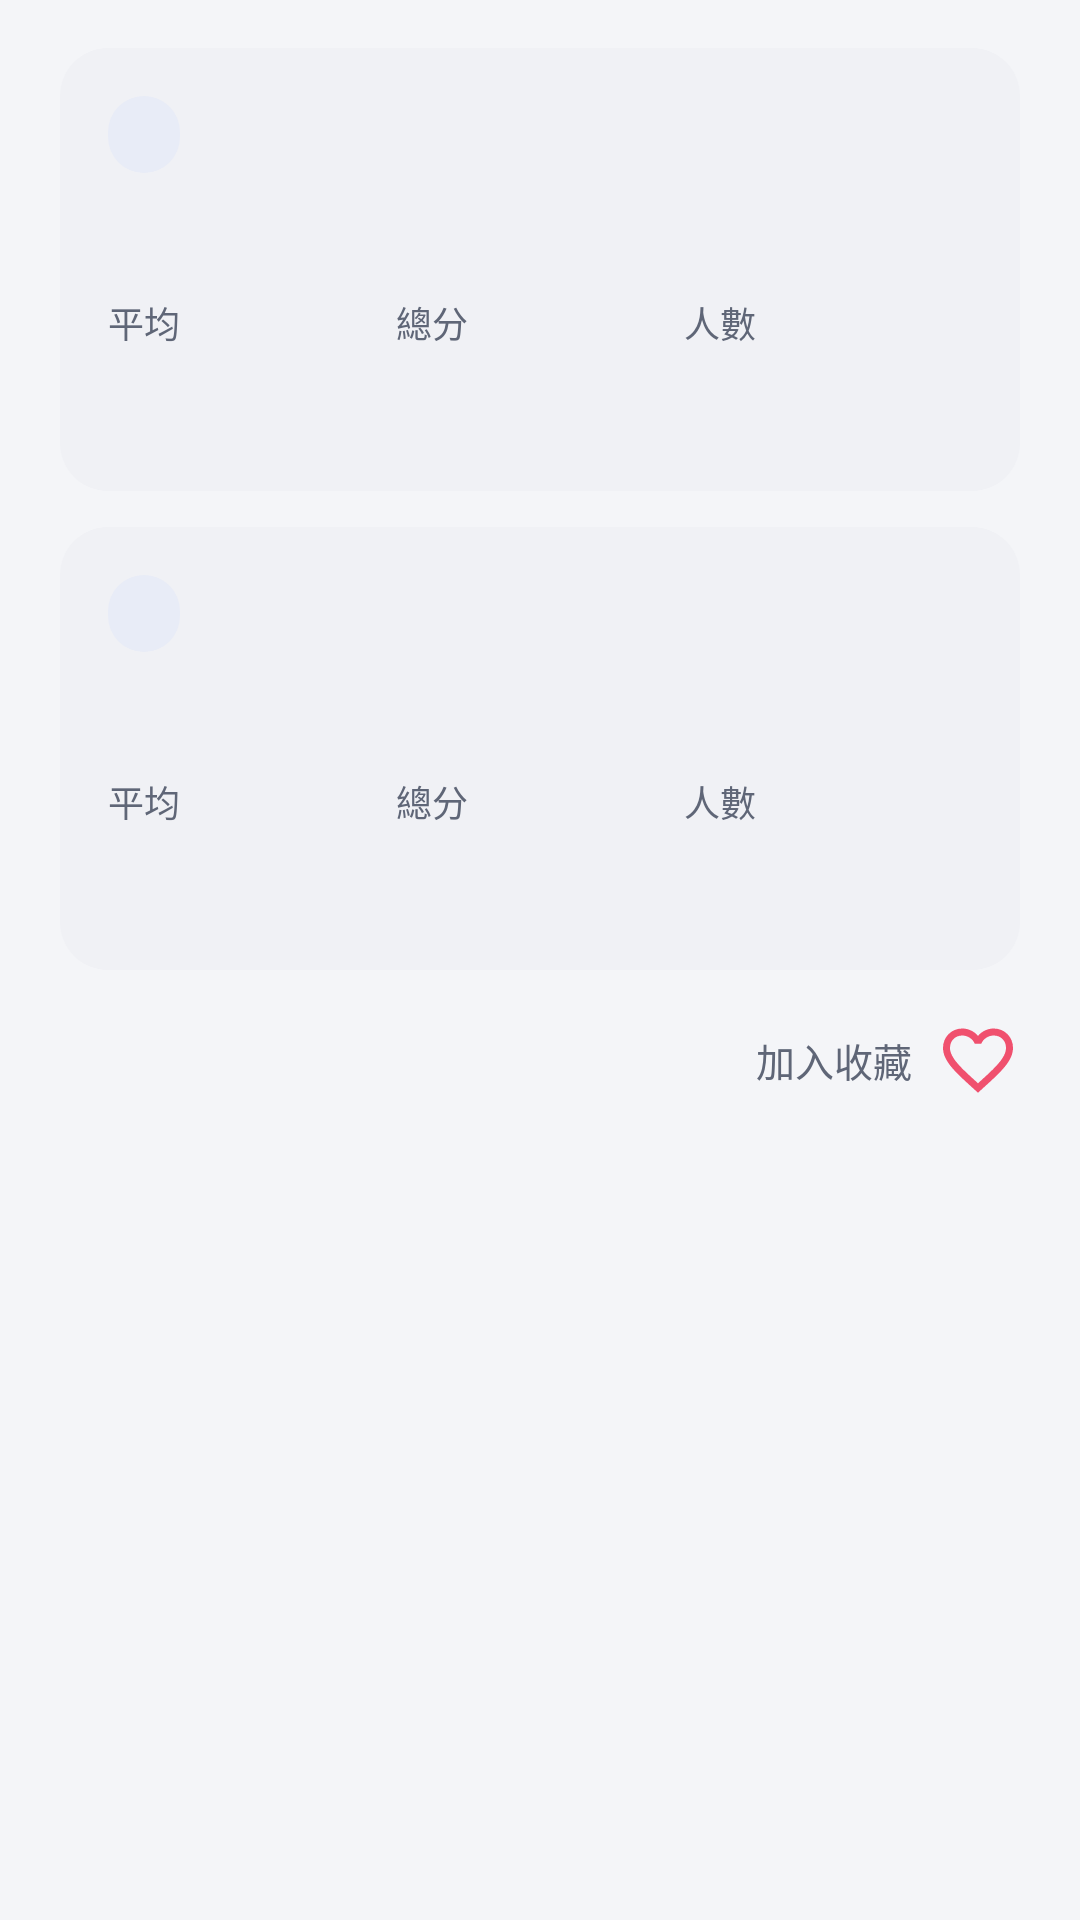

Screen size 1080px×1920px. Icon name, then its center in pixels as point (x, y):
favorite border: point (978, 1060)
